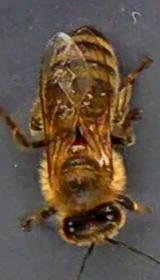varroa_mite: (58, 128, 94, 156)
